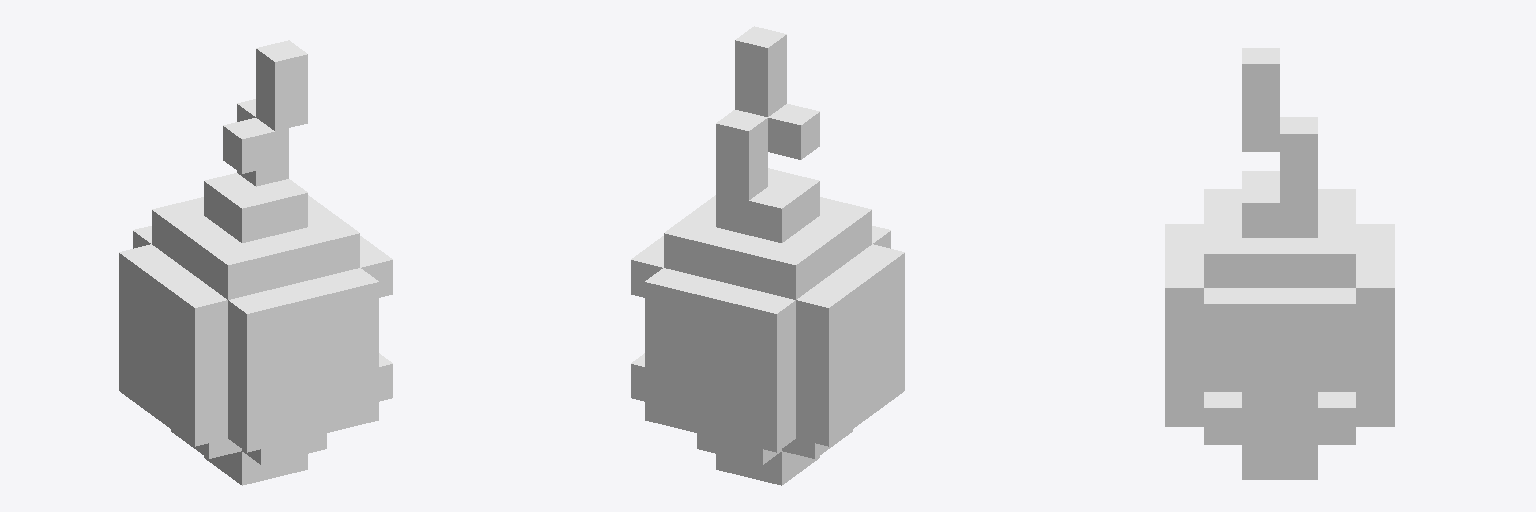
3 views of the same model, side by side, from view 1: azimuth 30°, elevation 25°; view 2: azimuth 150°, elevation 25°; view 3: azimuth 270°, elevation 25° (orthographic).
Visible parts, largest first — view 1: object 1; view 2: object 1; view 3: object 1.
Boxes of the visible parts, x1,y1,x2,y2 form: object 1: [119, 40, 392, 485]; object 1: [631, 26, 904, 485]; object 1: [1165, 48, 1394, 479].
Bounding box in the file's own units: 0.6 × 1.2 × 0.6.
Materials: 1 (1 with a texture image).